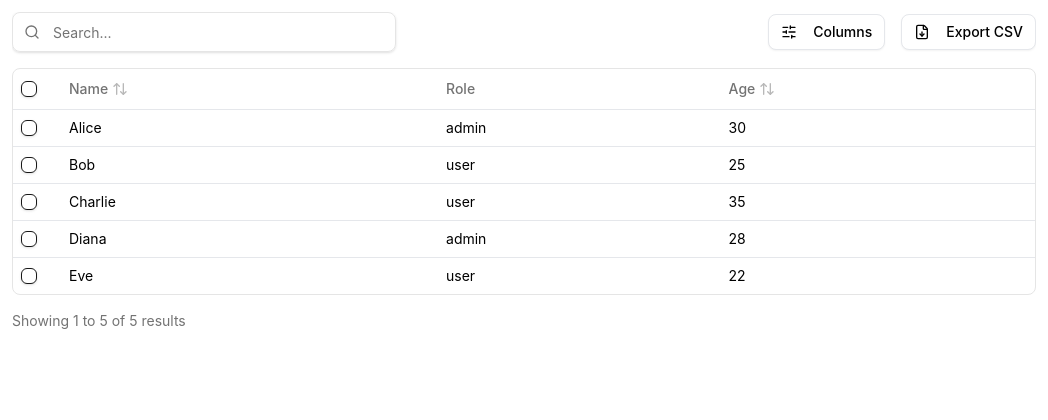
Test: DataTable › Row selection › deselects all after clicking header checkbox twice
Click the checkbox named "Select all rows" at (29, 89), box [21, 81, 37, 97]
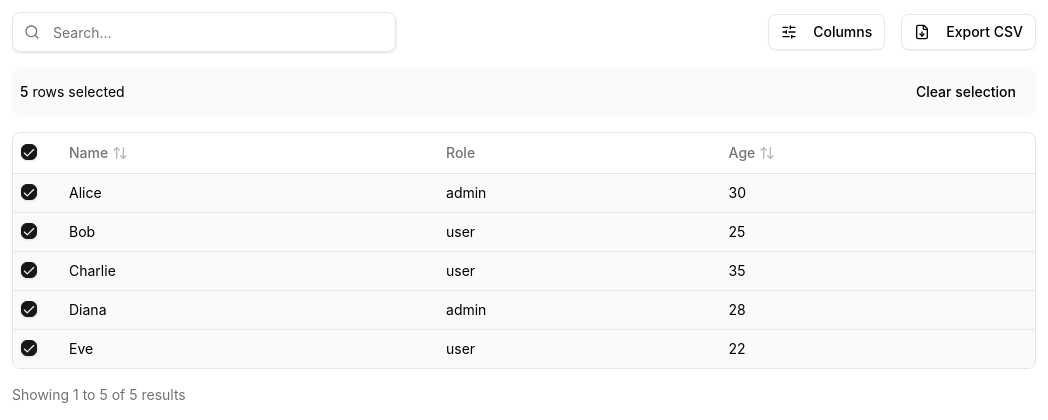
Click the checkbox named "Select all rows" at (29, 152), box [21, 144, 37, 160]
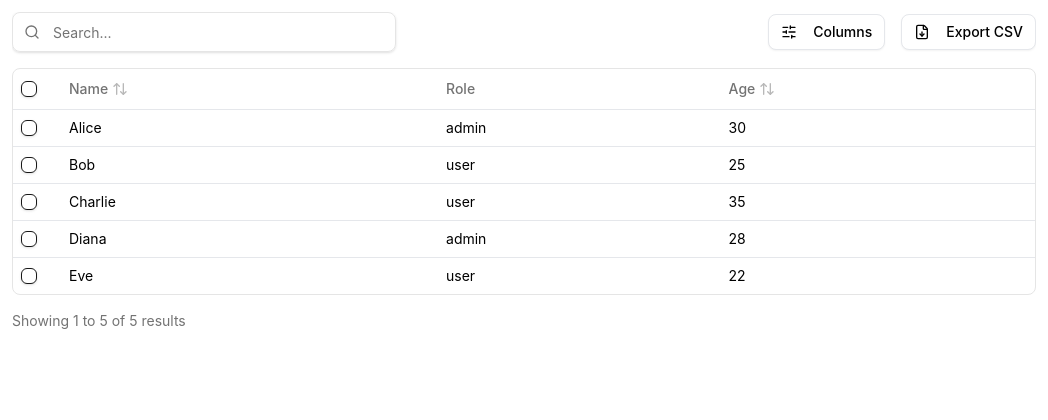
Expected: the checkbox named "Select row 1" is not checked, [21, 120, 37, 136]
Expected: the checkbox named "Select row 2" is not checked, [21, 156, 37, 172]
Expected: the checkbox named "Select row 3" is not checked, [21, 194, 37, 210]
